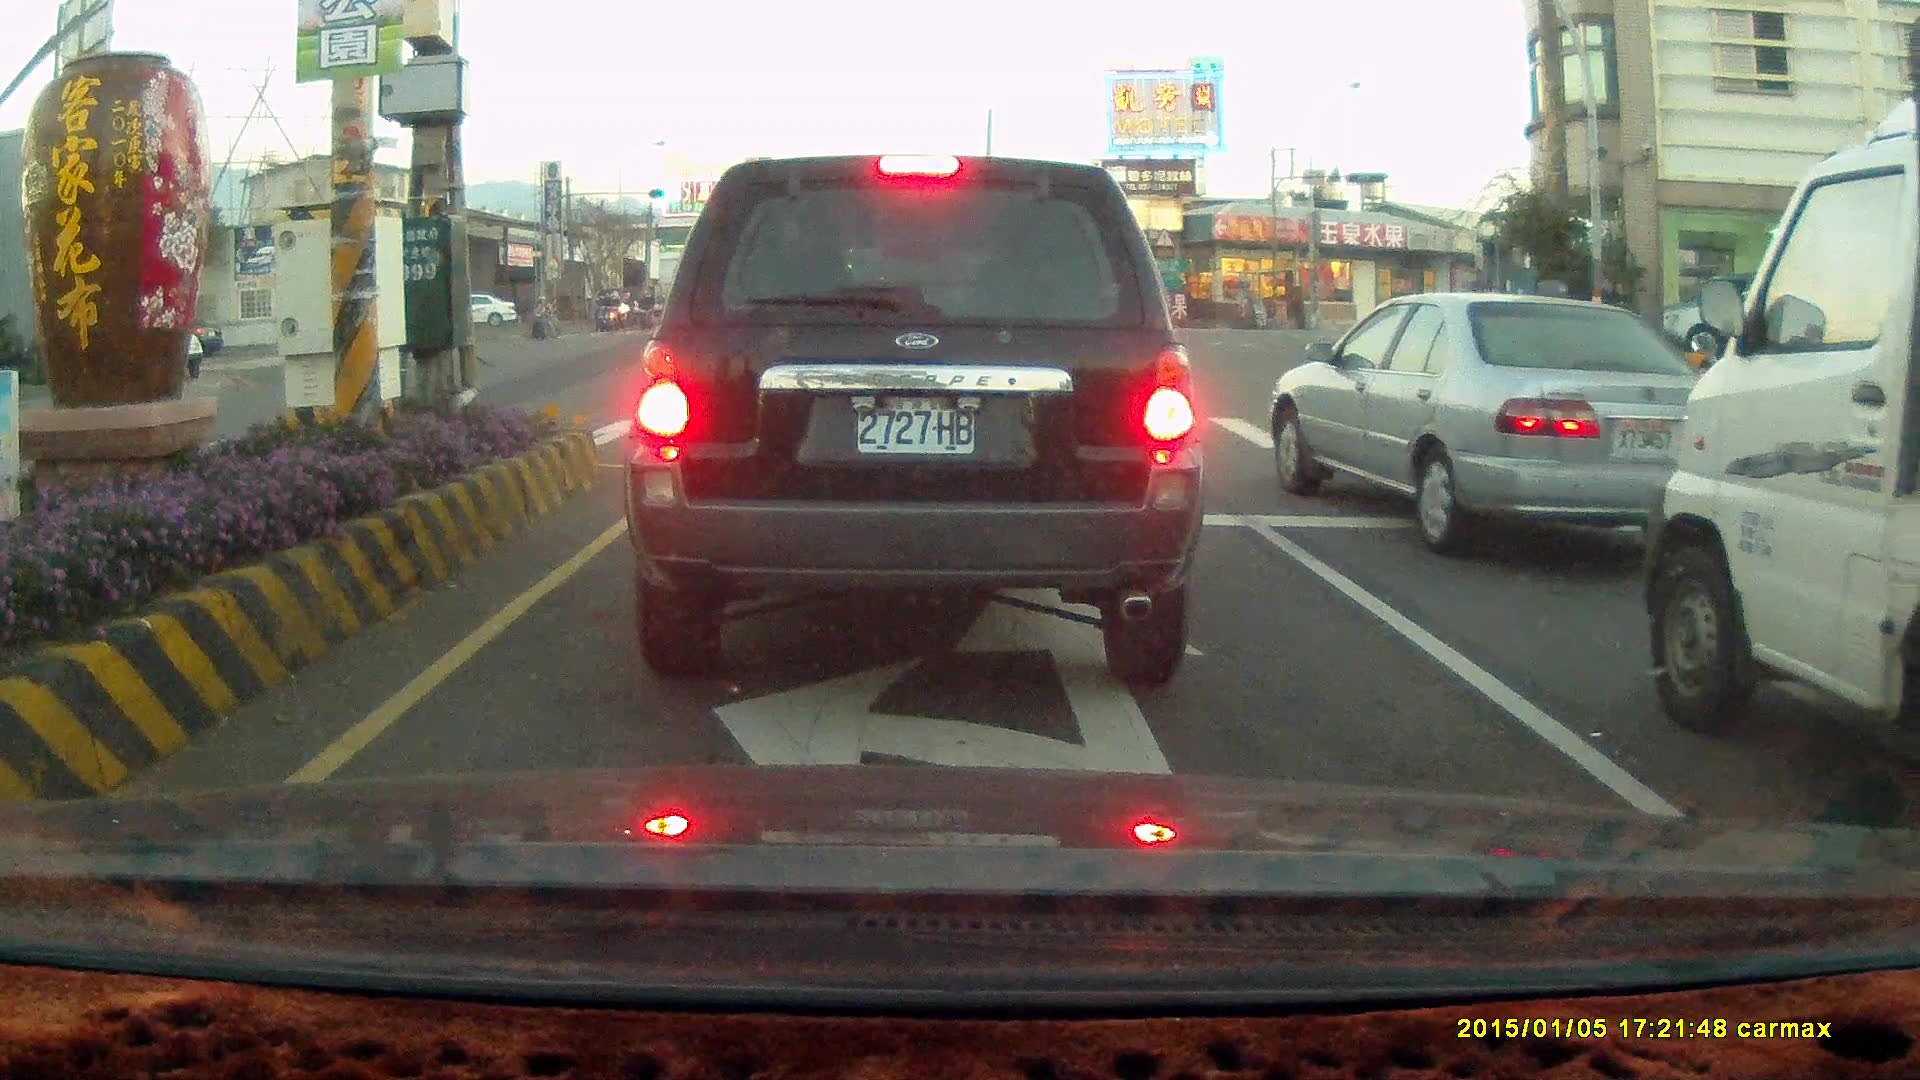rider: (526, 288, 556, 340), (591, 289, 612, 330), (597, 293, 618, 330), (635, 289, 656, 327)
vehicle: (621, 151, 1204, 688), (1640, 13, 1920, 786), (1265, 290, 1752, 557), (1281, 289, 1734, 556), (1652, 275, 1869, 376), (1669, 276, 1824, 372), (448, 295, 519, 329)
